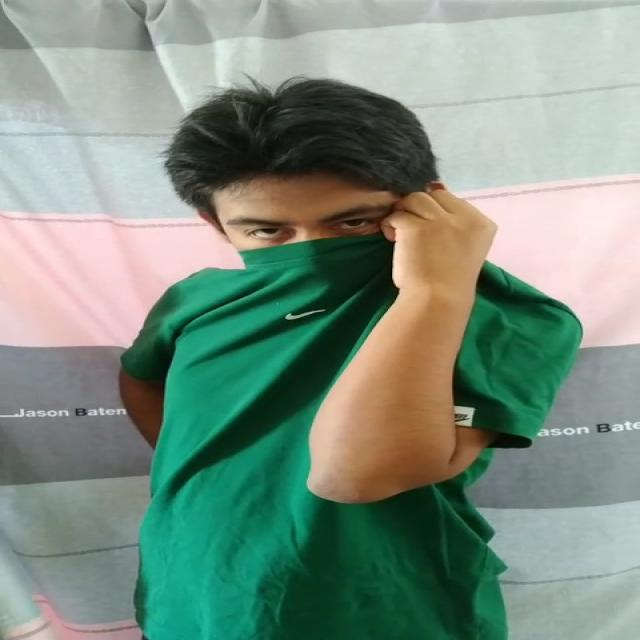8_ropa_rostro: (241, 214, 520, 333)
